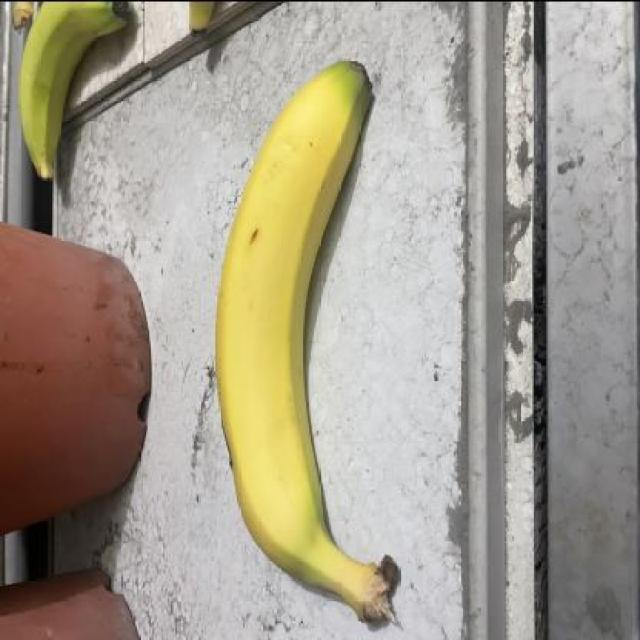Banana: (208, 51, 404, 634), (5, 0, 144, 185)
